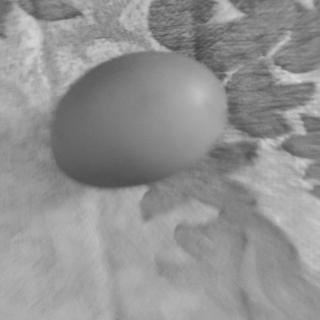Telur: (47, 50, 238, 196)
